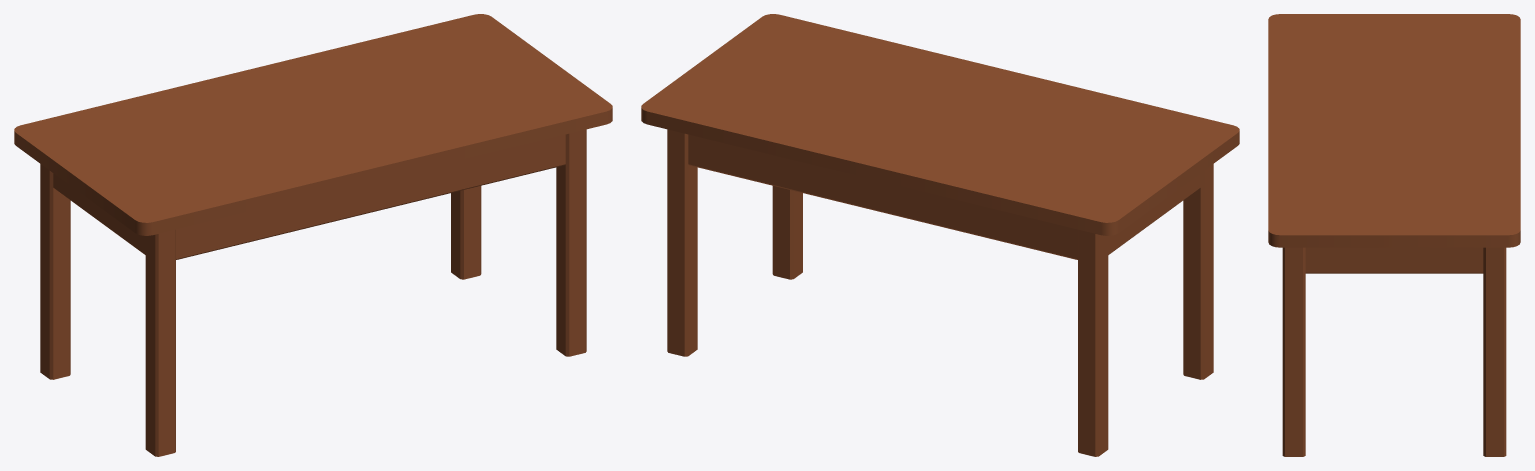
Rendered from coffee_table_broken.fbx.
The picture shows the model from 3 angles, left to right: view 1: azimuth 30°, elevation 25°; view 2: azimuth 150°, elevation 25°; view 3: azimuth 270°, elevation 25°; orthographic projection. The views are drawn at different scales.
Parts seen in each view (by area): view 1: coffee_table_01; view 2: coffee_table_01; view 3: coffee_table_01.
Part boxes in pixels (x1,y1,x2,y2): coffee_table_01: (14,14,612,456); coffee_table_01: (641,14,1239,456); coffee_table_01: (1268,14,1520,456).
Bounding box in the file's own units: 95.5 × 46.7 × 46.
